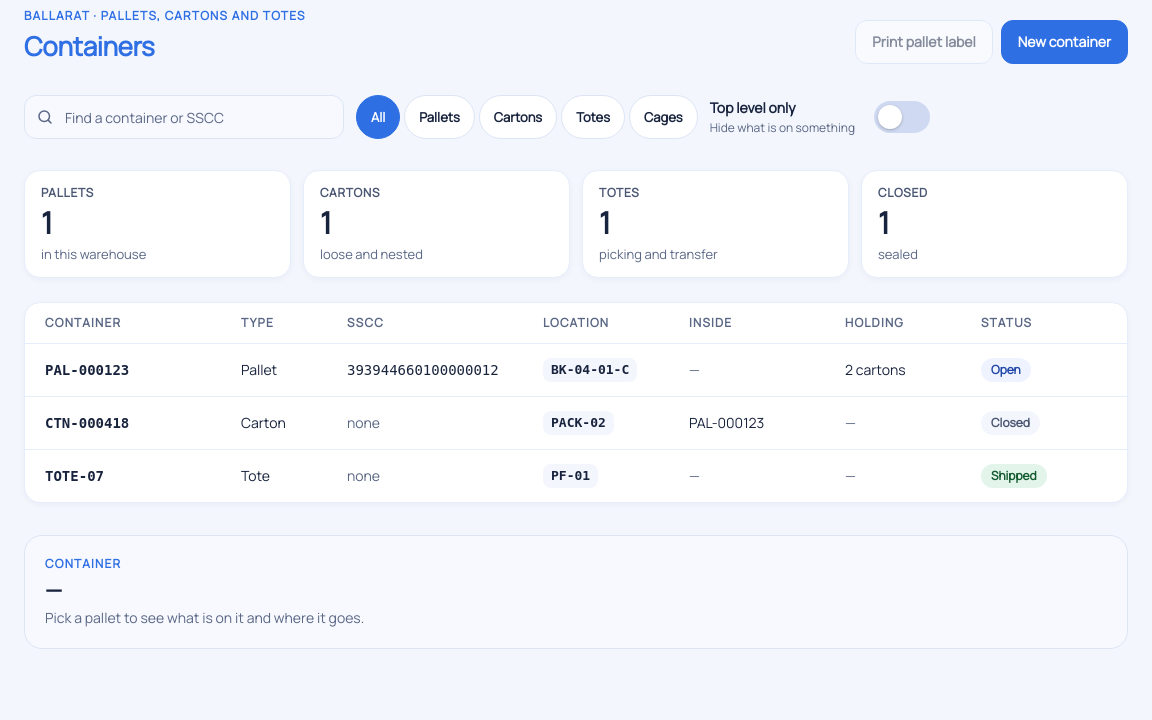
Scenario: Containers › opens a pallet and shows what is on it and what it holds
The width and height of the screenshot is (1152, 720).
Click the 1st text "PAL-000123" at (87, 370), box [45,362,129,378]
(page scrolled)
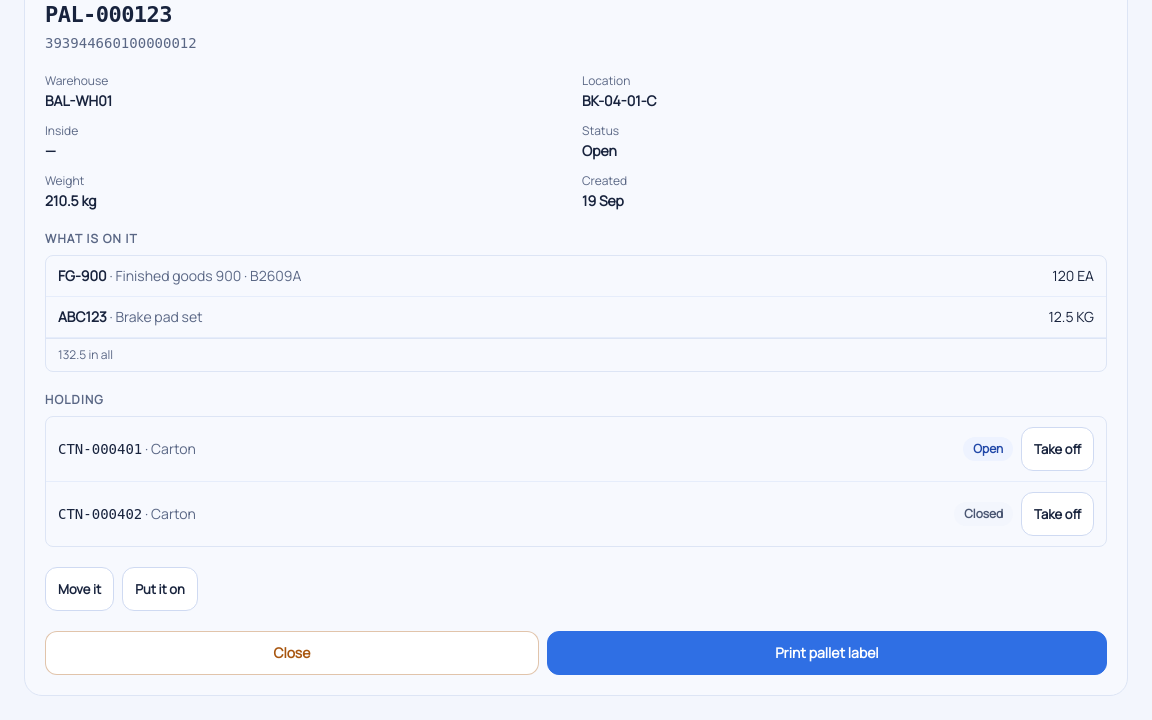
Expected: the text "393944660100000012" is shown, [45,35,197,51]
Expected: the text "FG-900" is shown, [58,266,107,285]
Expected: the text "120 EA" is shown, [1052,266,1094,286]
